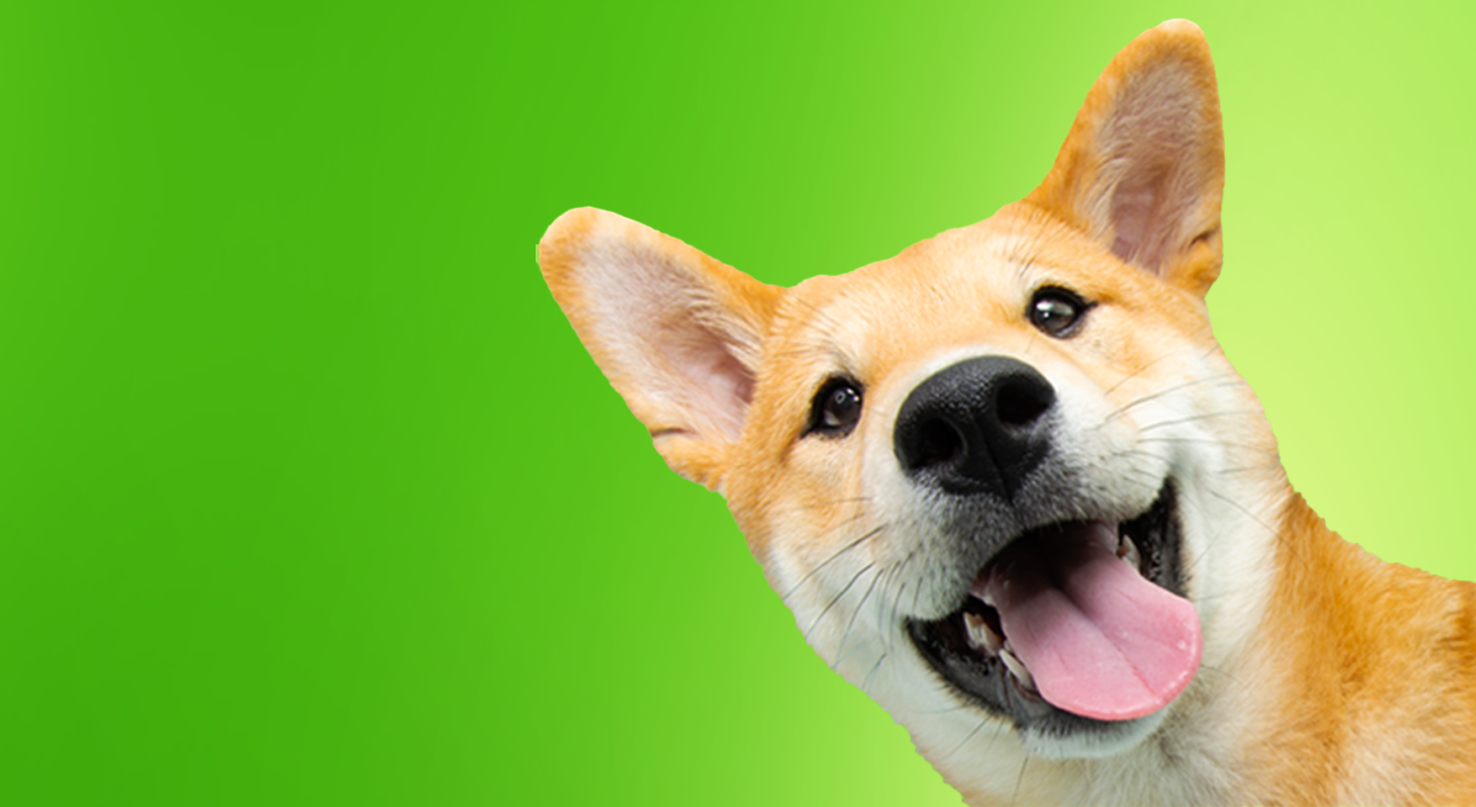Dog: (469, 11, 1476, 800)
